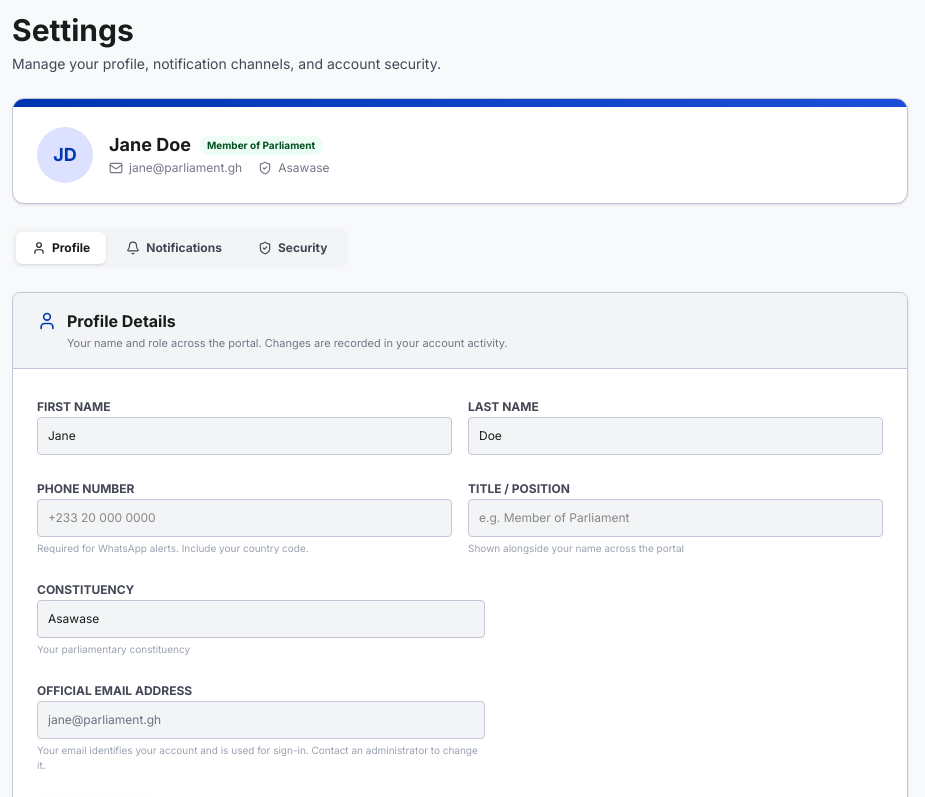
SettingsView › disables the WhatsApp toggle until a phone number exists
This screenshot has width=925, height=797.
What coordinates should you click on to do the following:
click the button "Notifications"
I would click on:
 (174, 248)
Its box is [110,232,238,264].
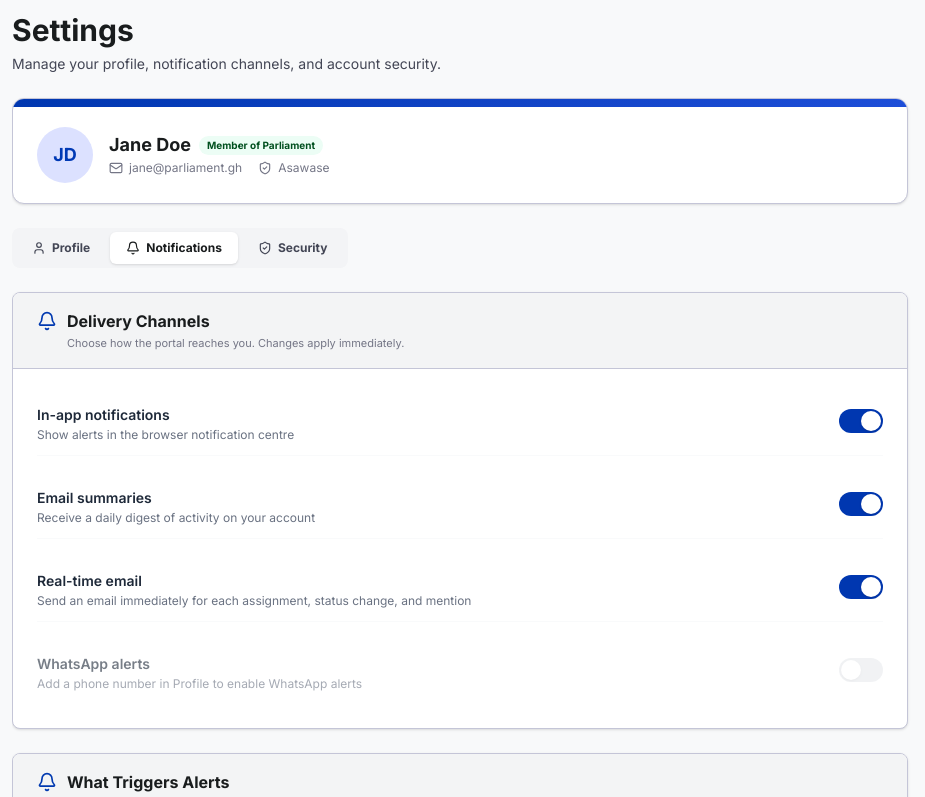
Check: the text "Add a phone number in Profile to enable WhatsApp alerts" is shown, box [37,676,362,692]
